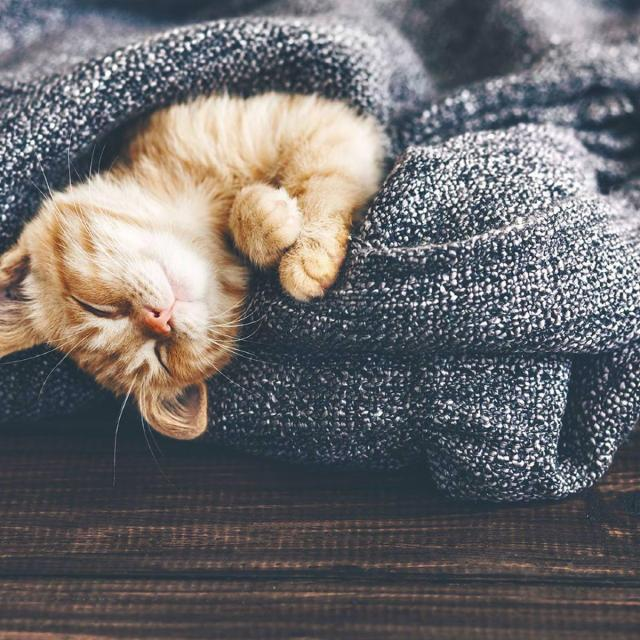Cat: (0, 94, 304, 517)
